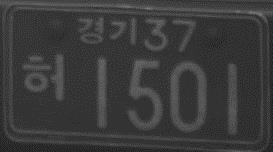0: (168, 60, 209, 134)
1: (221, 59, 245, 137), (92, 55, 113, 133)
3: (142, 16, 169, 53)
5: (124, 56, 164, 132)
7: (169, 17, 198, 53)
경기_O: (76, 14, 138, 50)
허: (21, 52, 67, 102)
